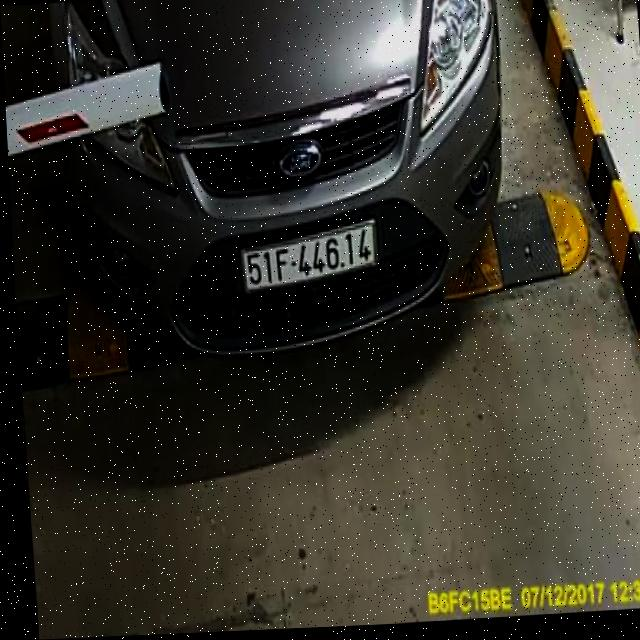car: (43, 0, 526, 378)
plate: (238, 217, 386, 294)
